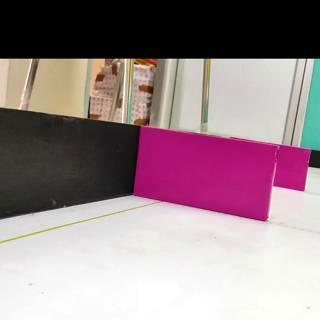xparking: (133, 128, 279, 223), (275, 146, 310, 193)
